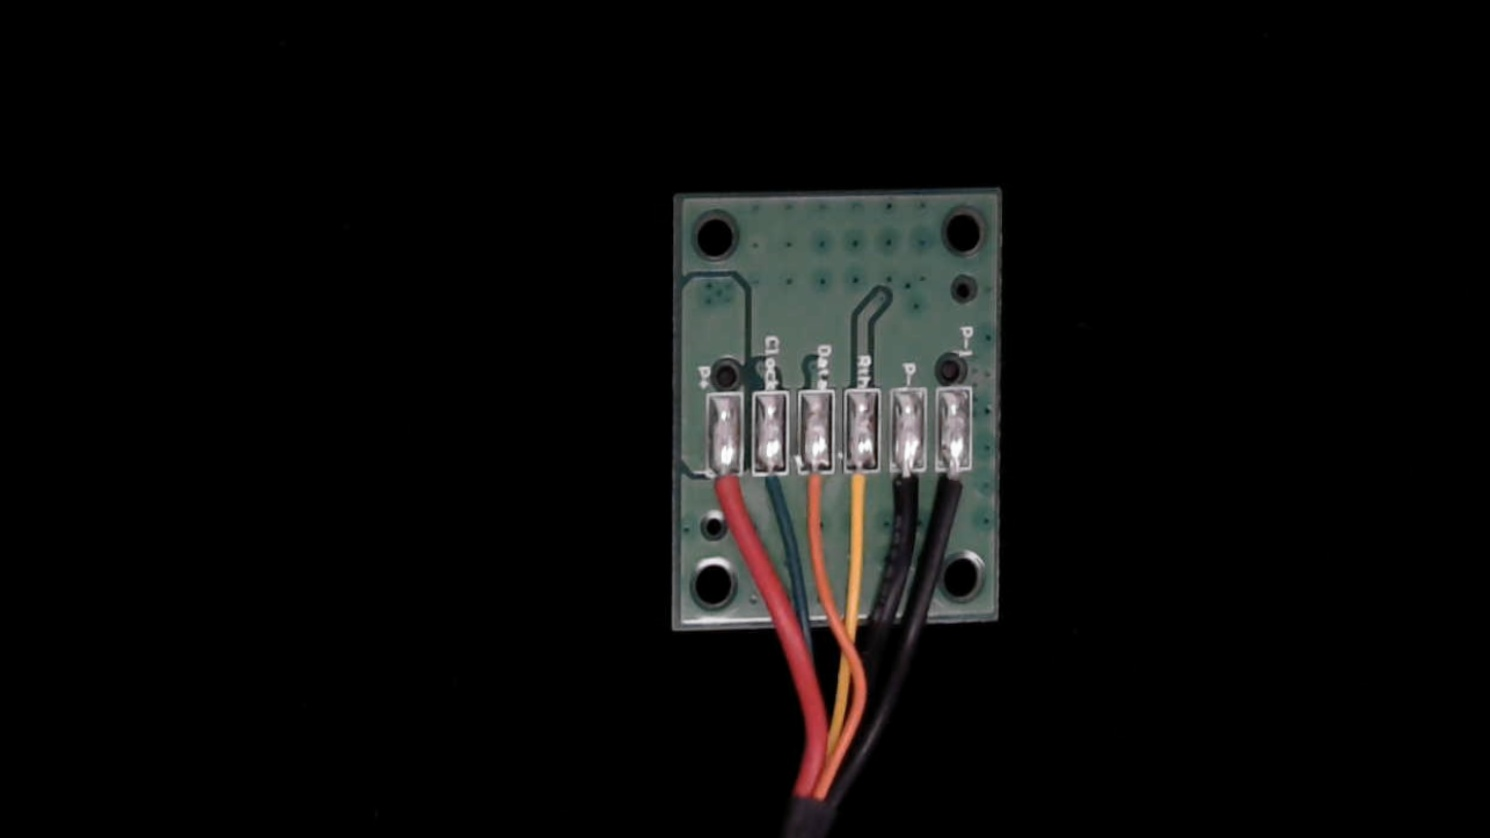Black: (887, 446, 928, 543)
Black1: (941, 446, 976, 538)
Green: (755, 450, 788, 532)
Orange: (799, 449, 837, 545)
Red: (708, 452, 745, 541)
Yellow: (839, 449, 880, 547)
